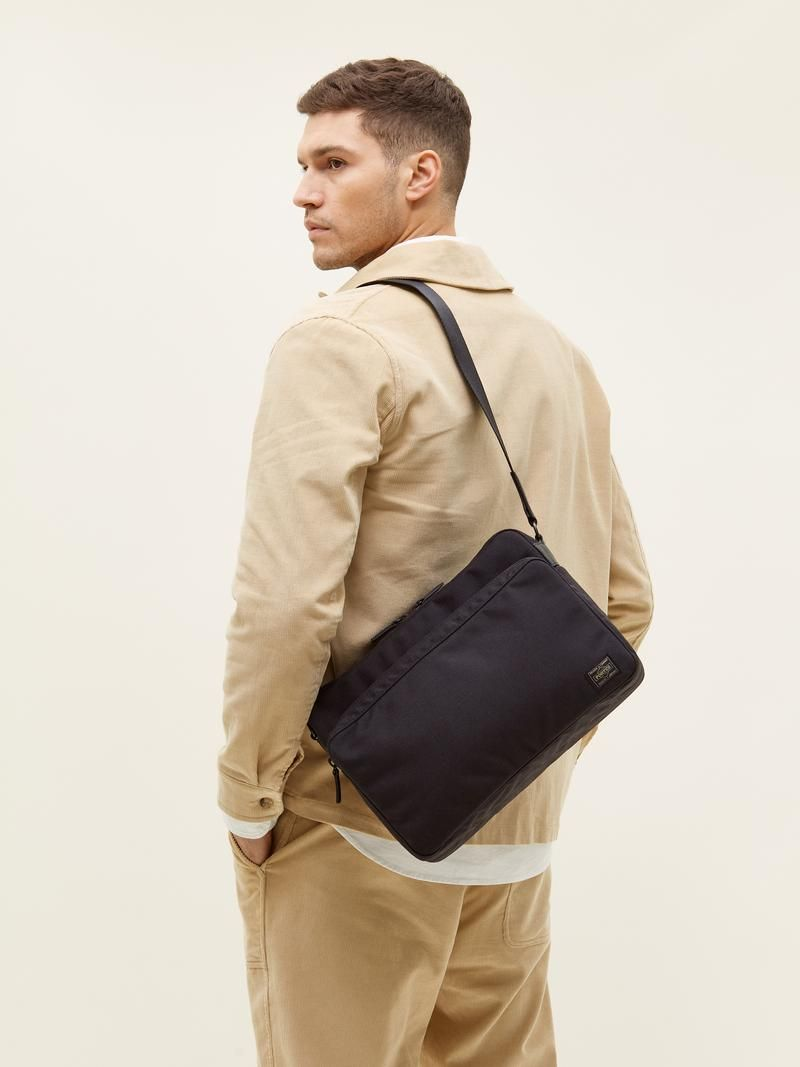shoulder bag: (76, 265, 694, 883)
